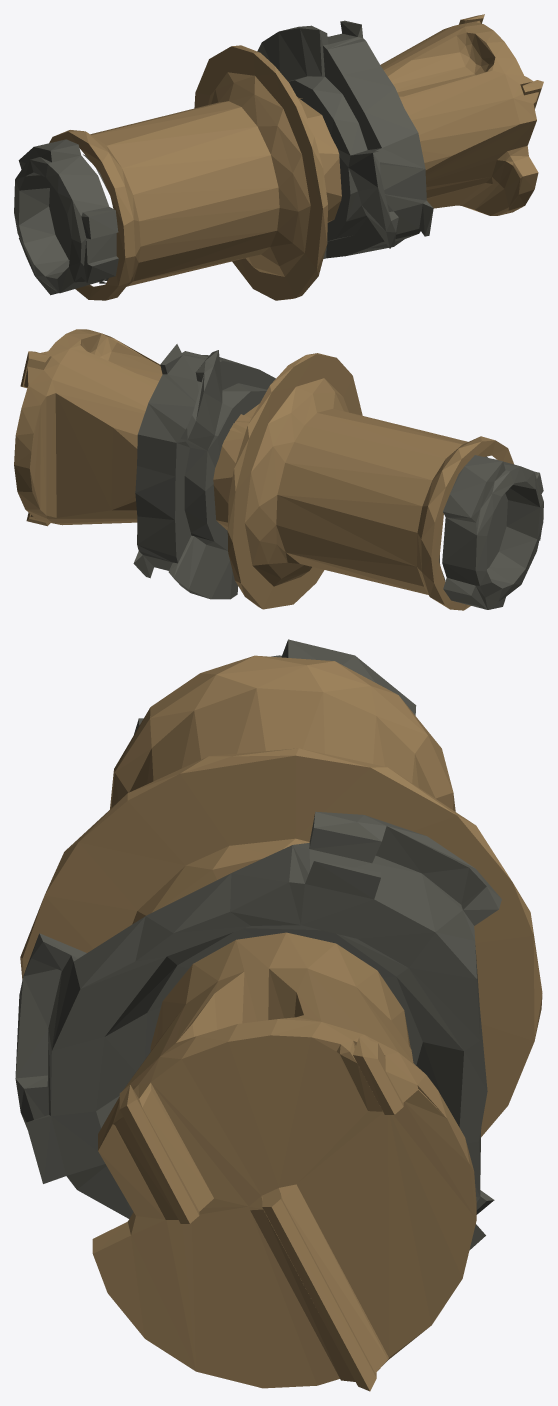
The model's file is AbradingBitInTurretAtZeroFeed.gltf.
3 renders of one model, top to bottom at view 1: azimuth 30°, elevation 25°; view 2: azimuth 150°, elevation 25°; view 3: azimuth 270°, elevation 25°, orthographic. The views are drawn at different scales.
Parts seen in each view (by area): view 1: Mesh_0; view 2: Mesh_0; view 3: Mesh_0.
Part boxes in pixels (x1=…): Mesh_0: x1=14, y1=14, x2=543, y2=300; Mesh_0: x1=14, y1=329, x2=543, y2=610; Mesh_0: x1=15, y1=639, x2=542, y2=1391.
Bounding box in the file's own units: 0.1307 × 0.0654 × 0.0647.
Materials: 1 (1 with a texture image).
